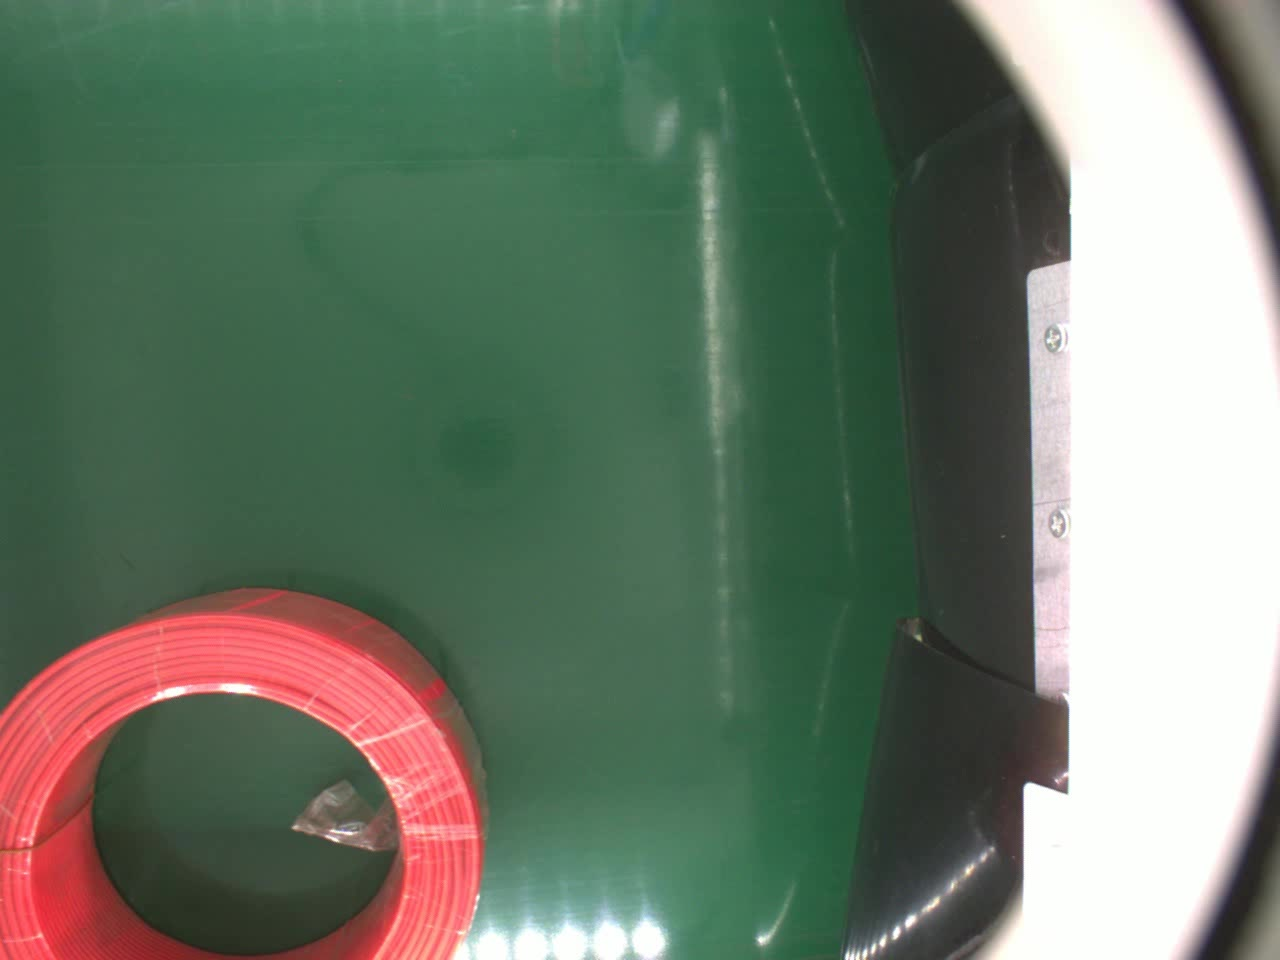red: (0, 585, 493, 960)
